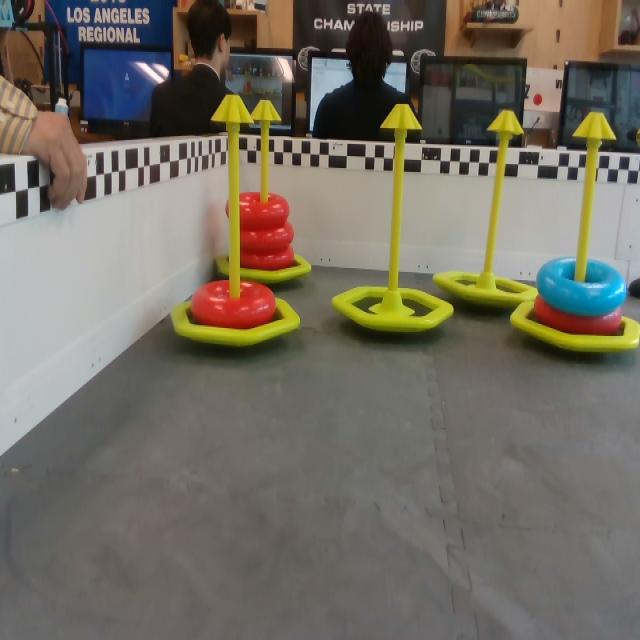Blue-Ring: (538, 258, 626, 318)
Mobile-Goal: (166, 94, 306, 350), (512, 112, 639, 354), (329, 100, 455, 340), (429, 105, 541, 310), (219, 97, 316, 285)
Red-Ring: (195, 280, 277, 329), (534, 297, 625, 338), (229, 191, 291, 229), (241, 224, 299, 252), (239, 252, 301, 270)
Yellow-Stake-Head: (572, 111, 618, 142), (210, 94, 255, 125), (379, 102, 424, 130), (488, 109, 524, 136), (248, 96, 282, 124)
